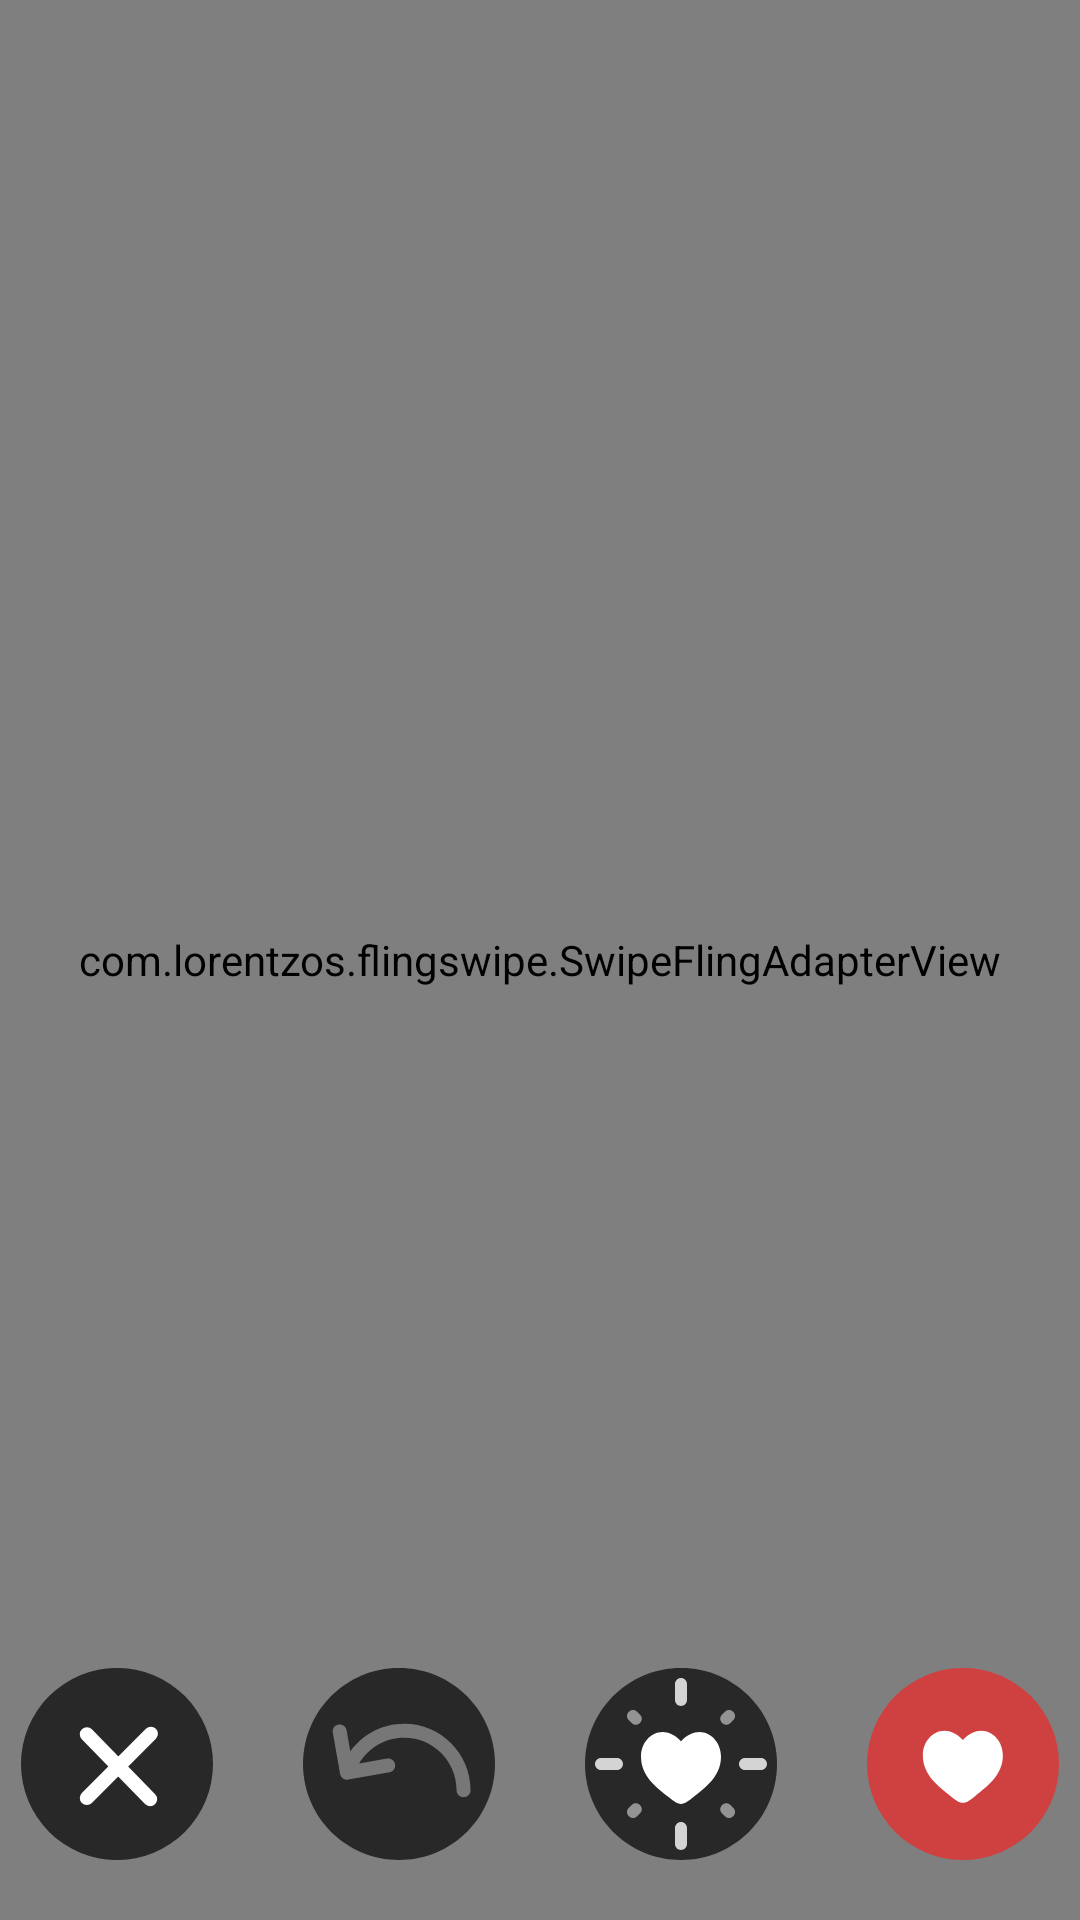

Screen size 1080px×1920px. Icon name, then its center in pixels as point (x, y):
swap but back: point (399, 1764)
swap but dislike: point (117, 1764)
swap but like: point (963, 1764)
swap but super like: point (681, 1764)
